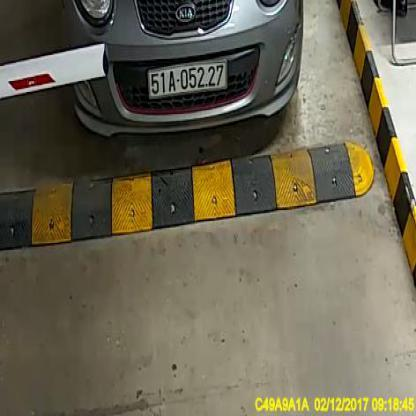biensoxe: (148, 58, 227, 100)
